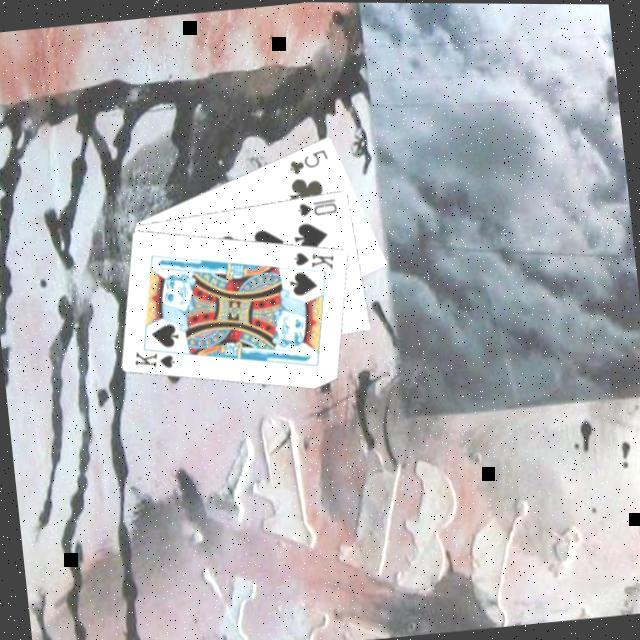10S: (292, 192, 340, 218)
5C: (282, 144, 332, 176)
KS: (128, 338, 183, 374), (288, 243, 338, 274)
